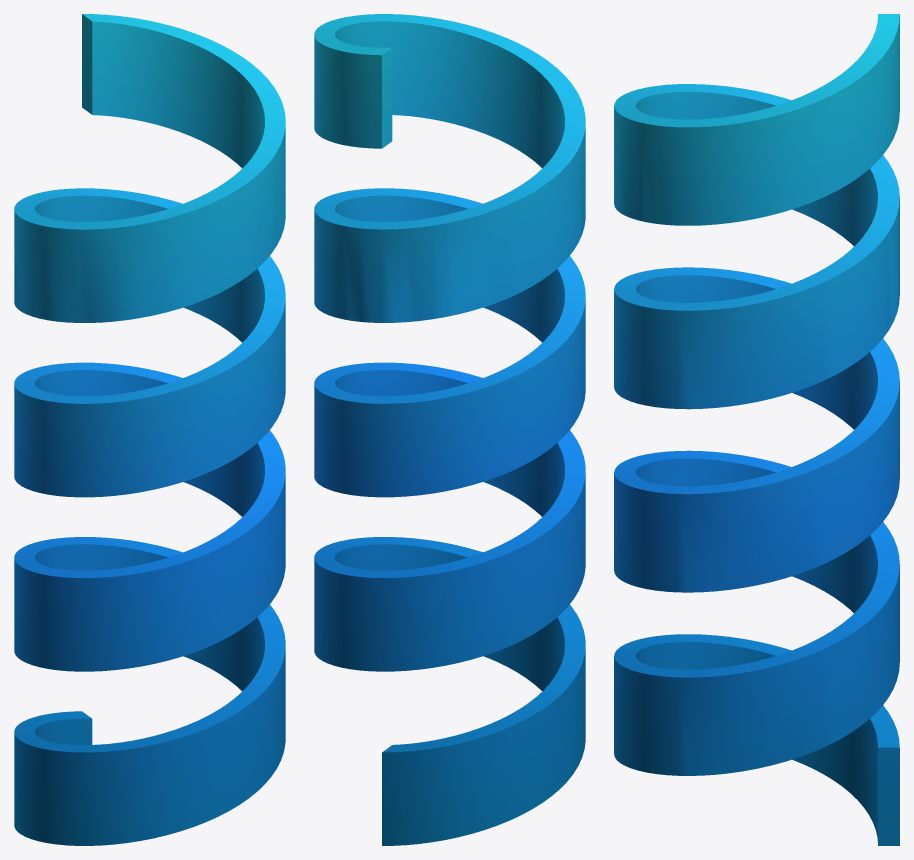
File: Spiral.glb
3 views of the same model, side by side, from view 1: azimuth 30°, elevation 25°; view 2: azimuth 150°, elevation 25°; view 3: azimuth 270°, elevation 25° (orthographic). The views are drawn at different scales.
Parts seen in each view (by area): view 1: BézierCurve.002; view 2: BézierCurve.002; view 3: BézierCurve.002.
Part boxes in pixels (x1,y1,x2,y2): BézierCurve.002: (14, 14, 285, 845); BézierCurve.002: (314, 14, 585, 845); BézierCurve.002: (614, 14, 899, 845).
Bounding box in the file's own units: 5.15 × 16.54 × 5.15.
Materials: 1 (1 with a texture image).
